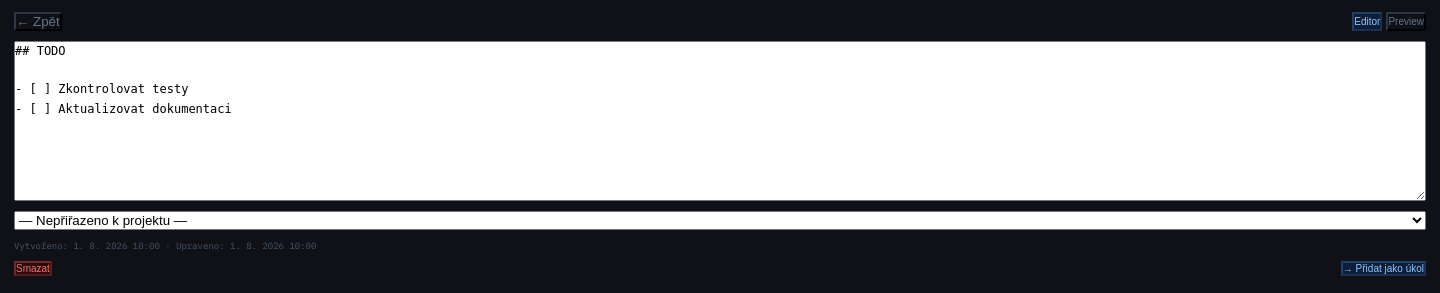
Test: NoteEditor › přepnutí na Preview vykreslí formátovaný markdown s nadpisem a položkami seznamu
What coordinates should you click on to do the following:
click the button "Preview"
I would click on:
 (1406, 22)
Its box is x1=1386 y1=12 x2=1426 y2=31.
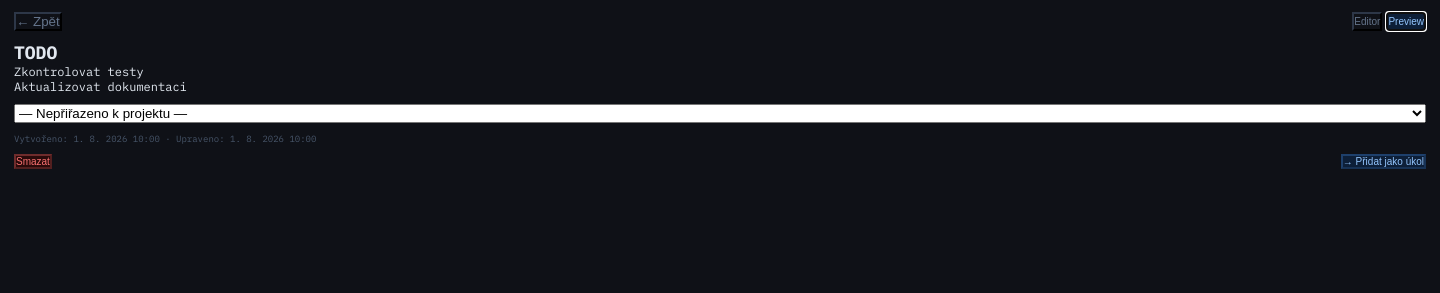
Now the heading "TODO" is shown, box x1=14 y1=41 x2=57 y2=64
Now the list item "Zkontrolovat testy" is shown, box x1=14 y1=64 x2=144 y2=79
Now the list item "Aktualizovat dokumentaci" is shown, box x1=14 y1=79 x2=187 y2=94
